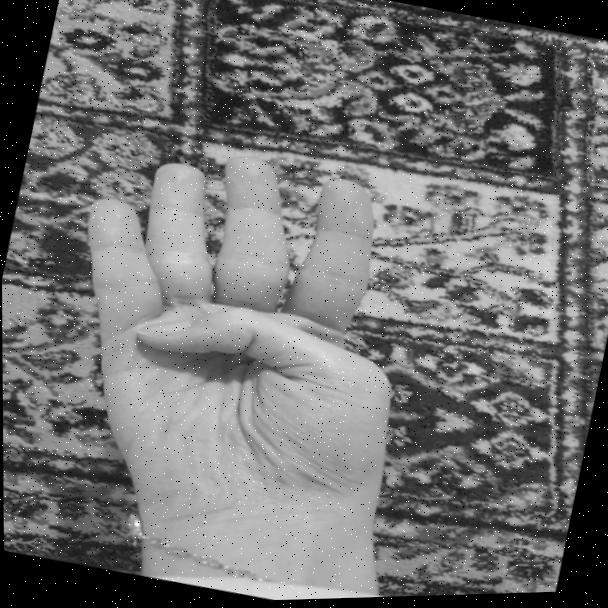four: (13, 115, 451, 589)
